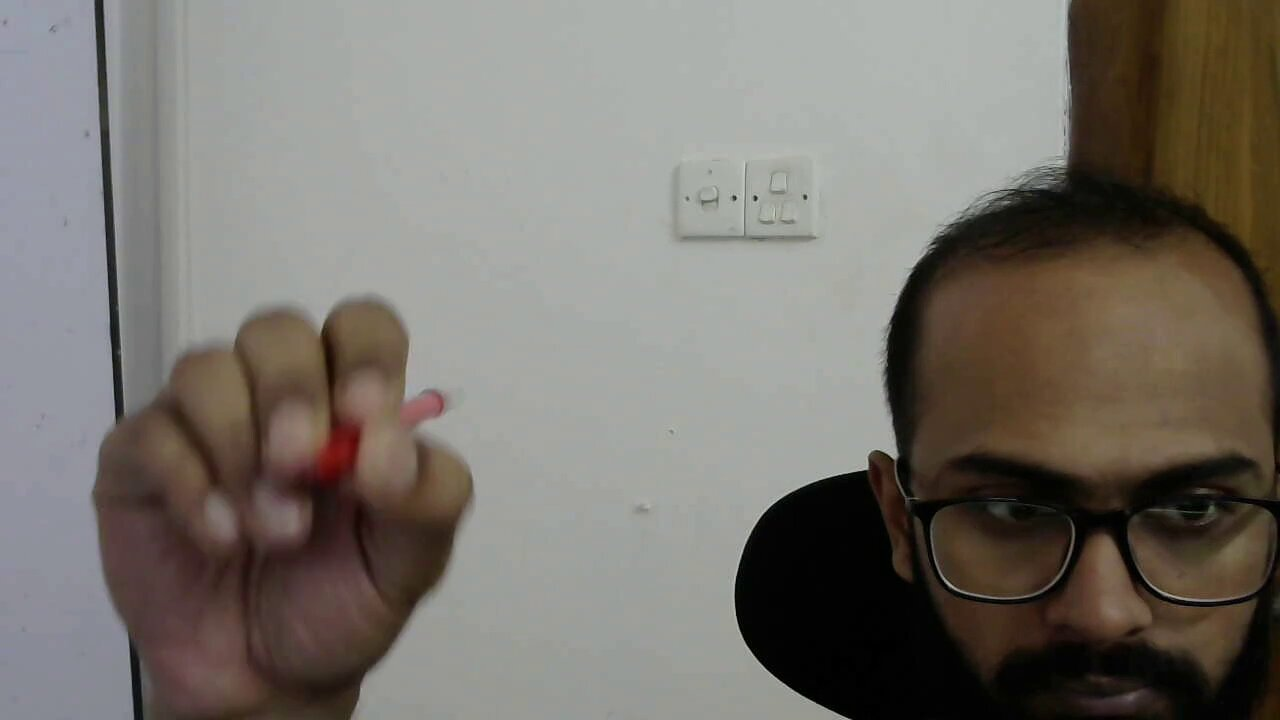pointer: (91, 295, 478, 646)
